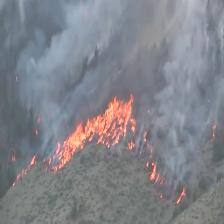fire: (75, 118, 130, 140)
smoke: (48, 9, 212, 114)
